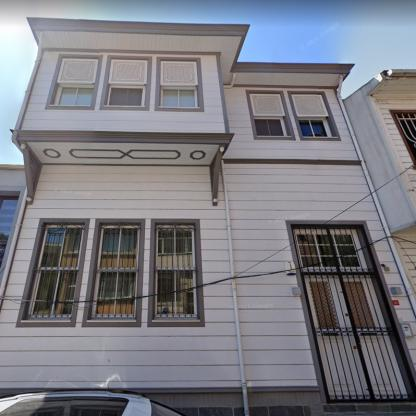door: (306, 279, 397, 392)
window: (29, 226, 83, 318), (94, 226, 138, 316), (156, 228, 194, 316), (296, 233, 362, 269), (0, 198, 19, 269), (161, 88, 197, 108), (58, 86, 94, 105), (107, 87, 144, 105), (254, 118, 286, 136), (299, 120, 328, 137)
